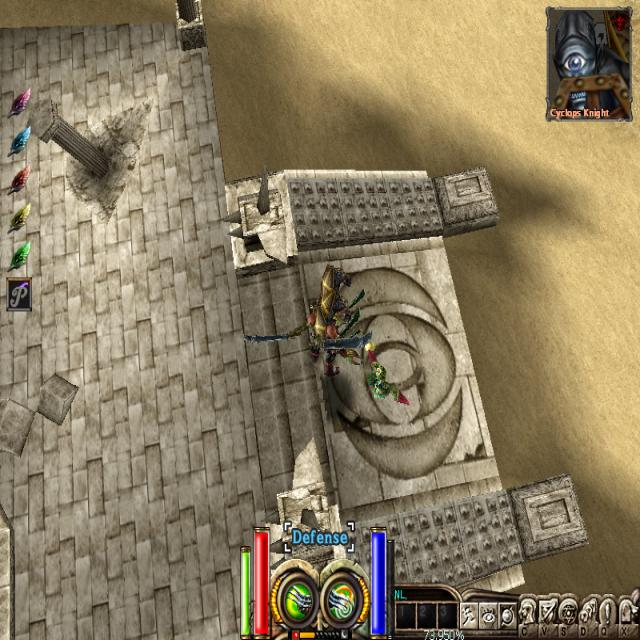monster: (315, 268, 357, 313)
